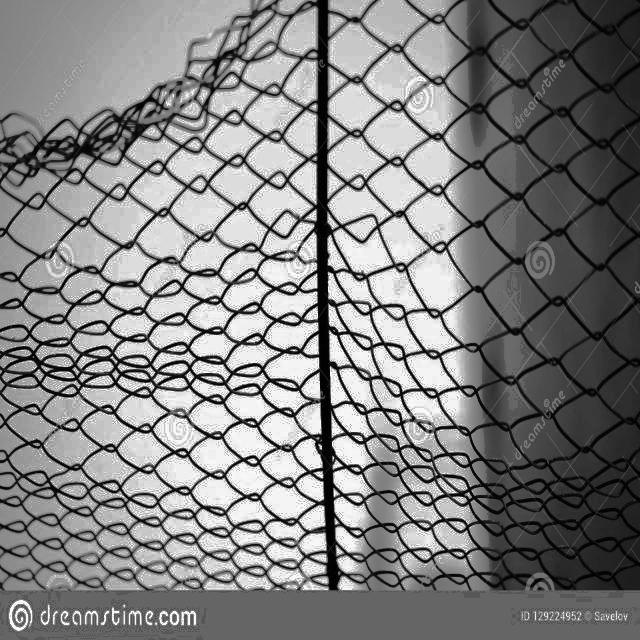anomaly-fence: (0, 0, 285, 201)
